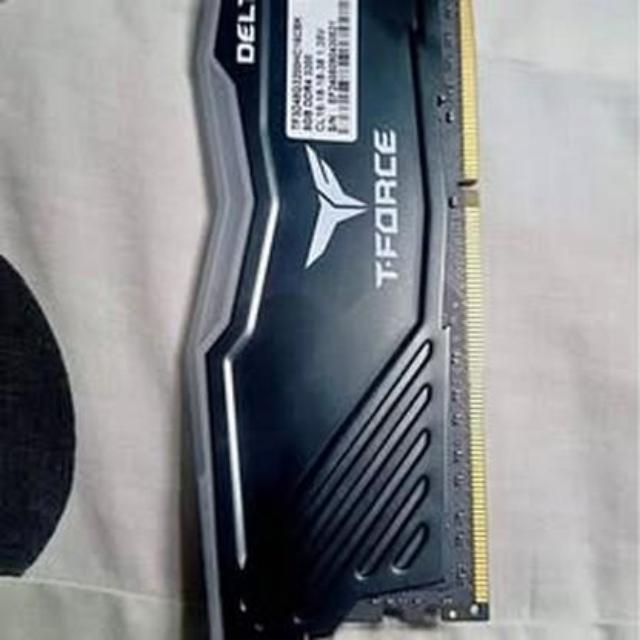RAM: (184, 0, 498, 640)
